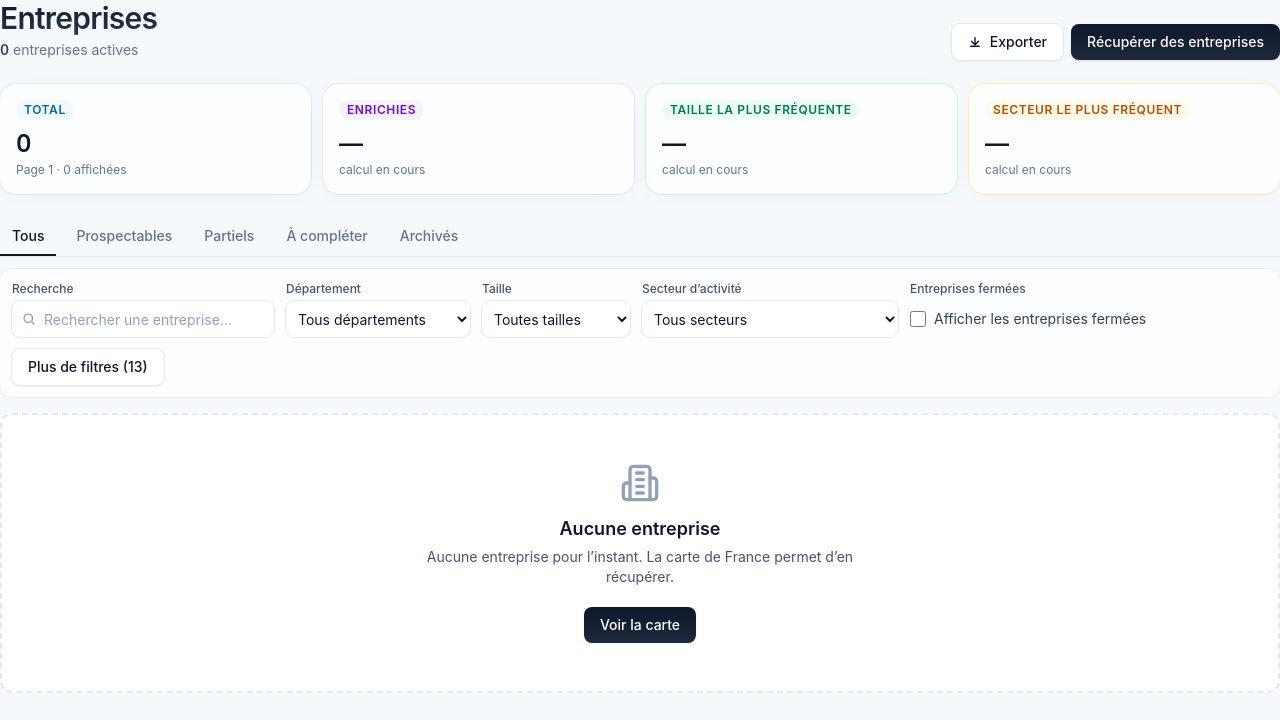
Test case: écran Entreprises — filtres lus depuis l’adresse › replie les filtres secondaires et retire le bouton « Importer »
Expected: the dropdown labelled "Département" is shown, [286,301,470,337]
Expected: the dropdown labelled "Taille" is shown, [482,301,630,337]
Click the button "Plus de filtres (13)": (88, 367) [12,349,164,385]
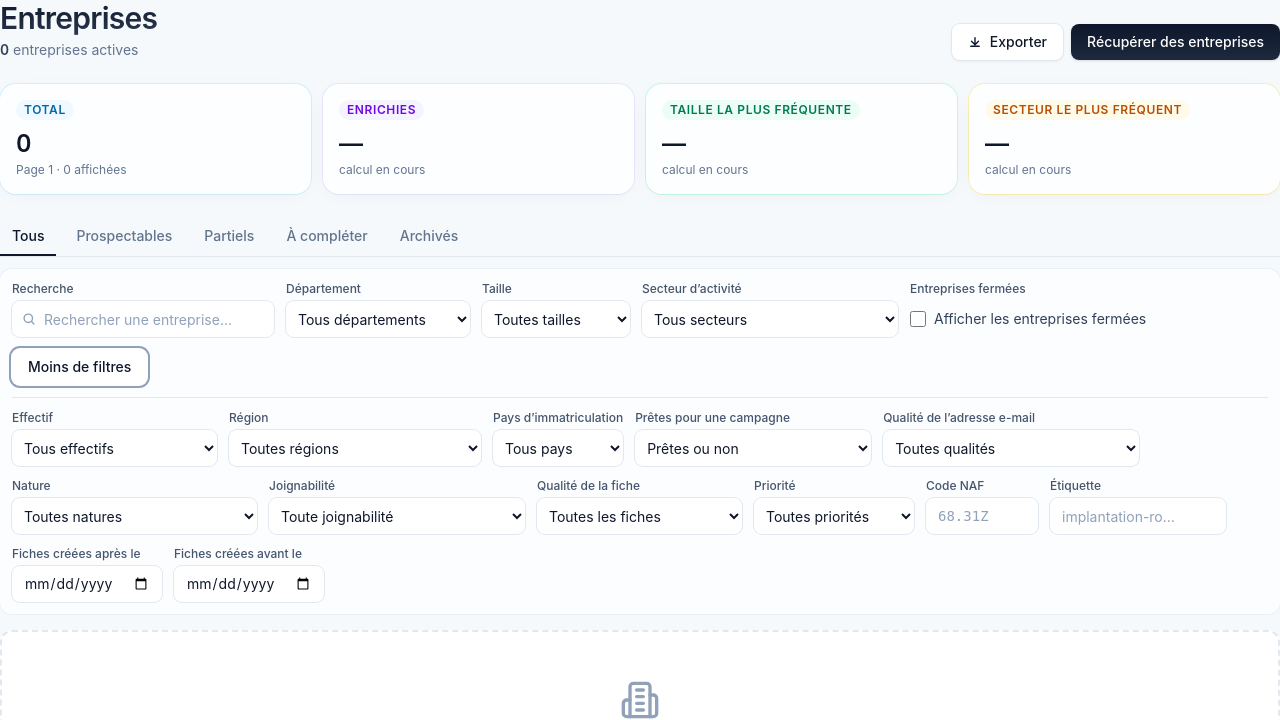
Now the dropdown labelled "Priorité" is shown, box [754,498,914,534]
